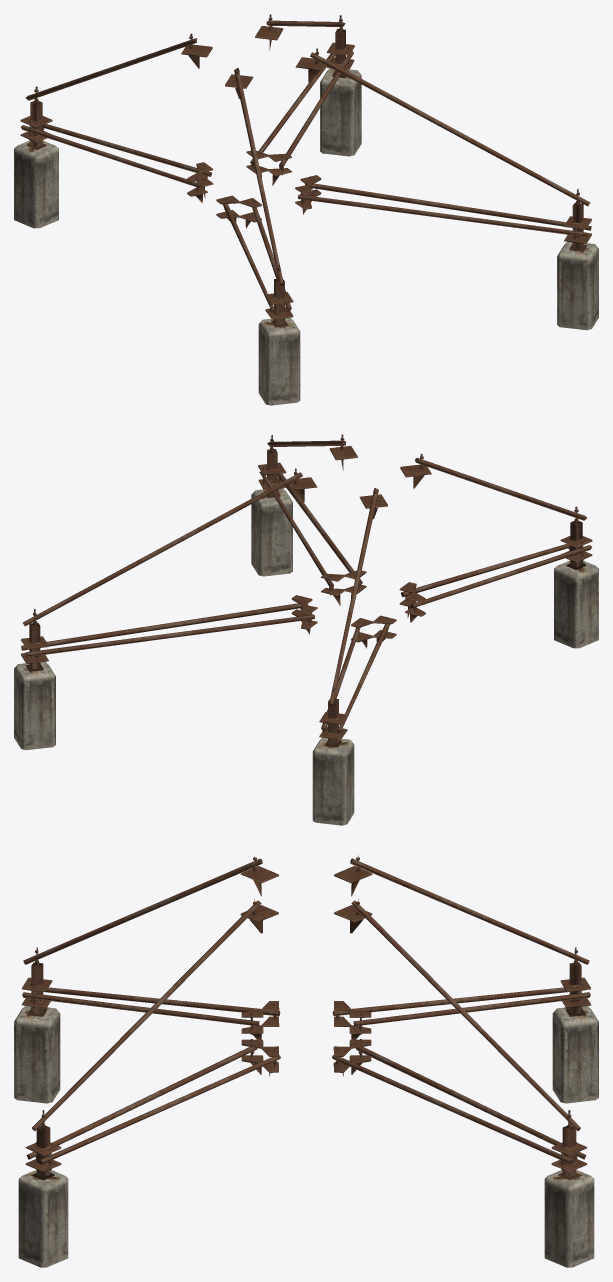
The model's file is antena_helipad_base.glb.
3 renders of one model, top to bottom at view 1: azimuth 30°, elevation 25°; view 2: azimuth 150°, elevation 25°; view 3: azimuth 270°, elevation 25°, orthographic. The views are drawn at different scales.
Parts seen in each view (by area): view 1: antena_helipad_base_LOD0; view 2: antena_helipad_base_LOD0; view 3: antena_helipad_base_LOD0.
Boxes of the visible parts, left/top/right/bottom form: antena_helipad_base_LOD0: left=14, top=14, right=598, bottom=405; antena_helipad_base_LOD0: left=14, top=434, right=598, bottom=825; antena_helipad_base_LOD0: left=14, top=855, right=598, bottom=1267.
Bounding box in the file's own units: 4.43 × 3.04 × 5.97.
1 material, 1 textured.
